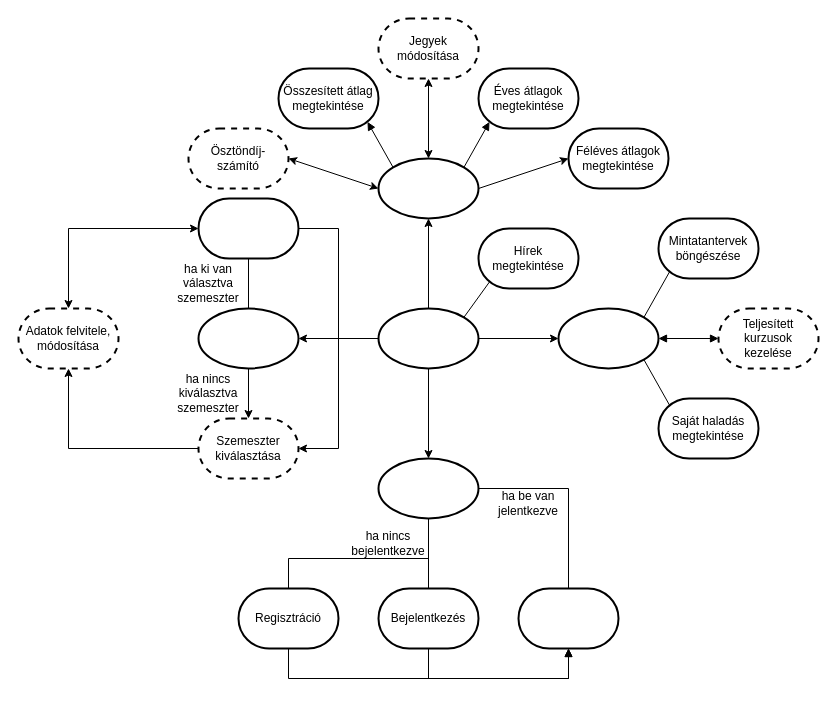
Image size: 836x704. Some labels were removed from this diagram. The centre of each missing label's shape, as x and y in pixels:
"Felhasználó oldal" belongs at pixel 428 488.
"Felhasználói adatok, beállítások" belongs at pixel 568 618.
"Főoldal" belongs at pixel 428 338.
"Mintatantervbeli haladás oldal" belongs at pixel 608 338.
"Tanulmányi átlagok oldal" belongs at pixel 428 188.
"Órarend megtekintése" belongs at pixel 248 228.
"Órarendtervező oldal" belongs at pixel 248 338.
